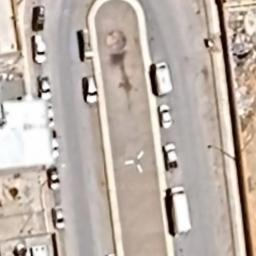pickup: (157, 138, 185, 174), (31, 35, 54, 67), (43, 132, 65, 161), (46, 168, 64, 191)
sedan: (32, 72, 56, 101), (156, 102, 178, 130), (48, 202, 68, 232), (42, 101, 58, 127)
truck: (162, 183, 196, 239), (147, 58, 181, 100), (75, 28, 99, 66)
unknown: (28, 4, 52, 34)
van: (80, 74, 101, 106)
